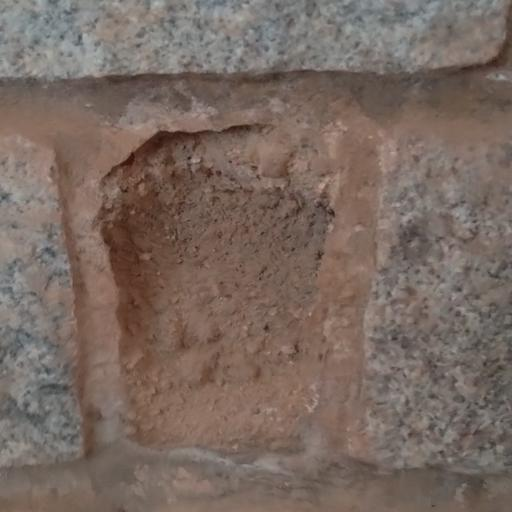spalling: (32, 60, 421, 512)
